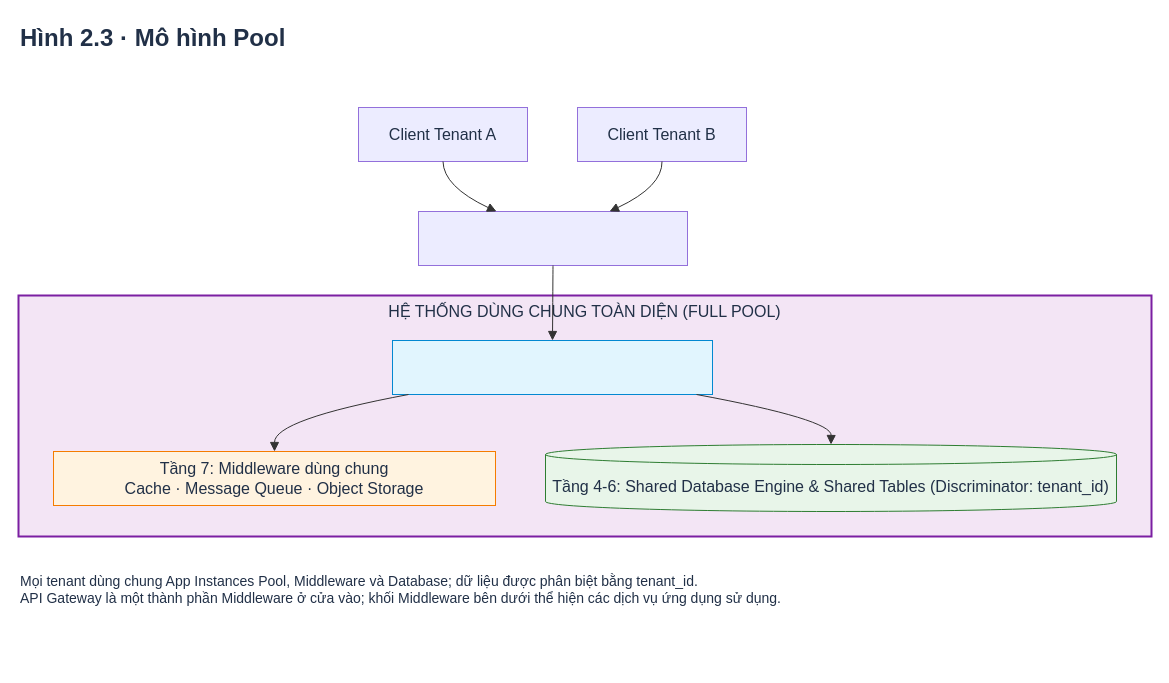
Some shapes in this 1169 by 683 pixel diagram are drawn without their labels. Each missing label, with the centre of its shape:
"API Gateway / Ingress Router" belongs at point 553,238.
"Tầng 8-9: Shared App Instances Pool" belongs at point 552,367.
